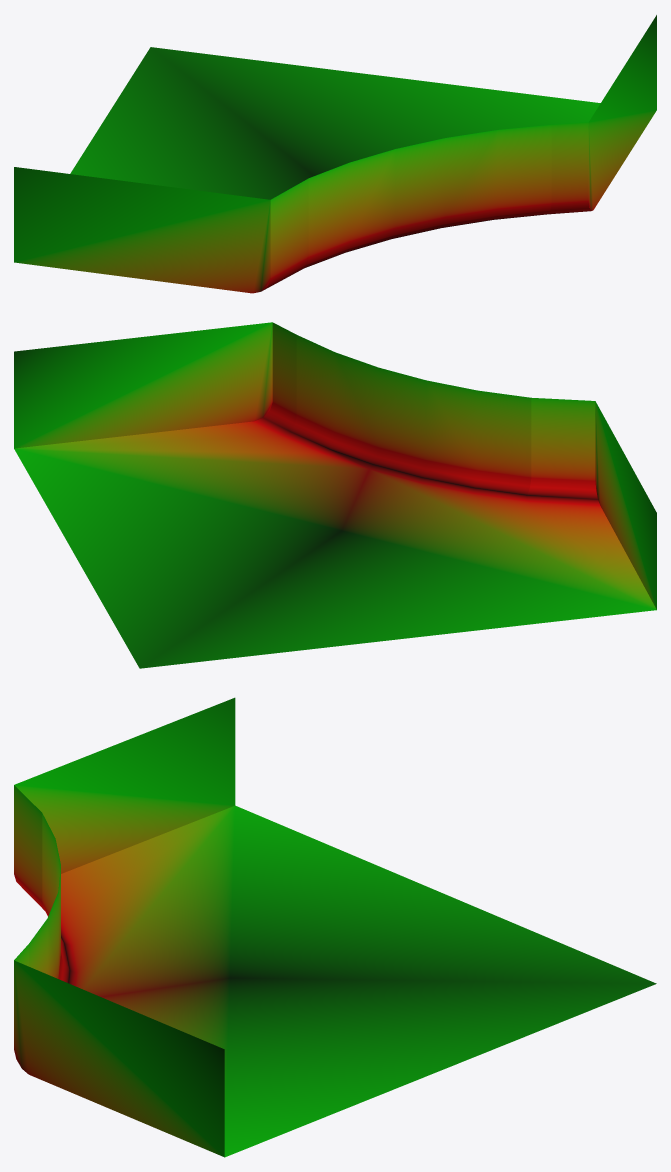
File: CeilingSupportV1In.fbx
The picture shows the model from 3 angles, top to bottom: view 1: azimuth 30°, elevation 25°; view 2: azimuth 150°, elevation 25°; view 3: azimuth 270°, elevation 25°; orthographic projection. The views are drawn at different scales.
Parts seen in each view (by area): view 1: CeilingSupportV1In; view 2: CeilingSupportV1In; view 3: CeilingSupportV1In.
Boxes of the visible parts, left/top/right/bottom form: CeilingSupportV1In: left=14, top=15, right=656, bottom=293; CeilingSupportV1In: left=14, top=322, right=656, bottom=668; CeilingSupportV1In: left=14, top=697, right=656, bottom=1157.
Size of the model in its own units: 279 by 40 by 216.
